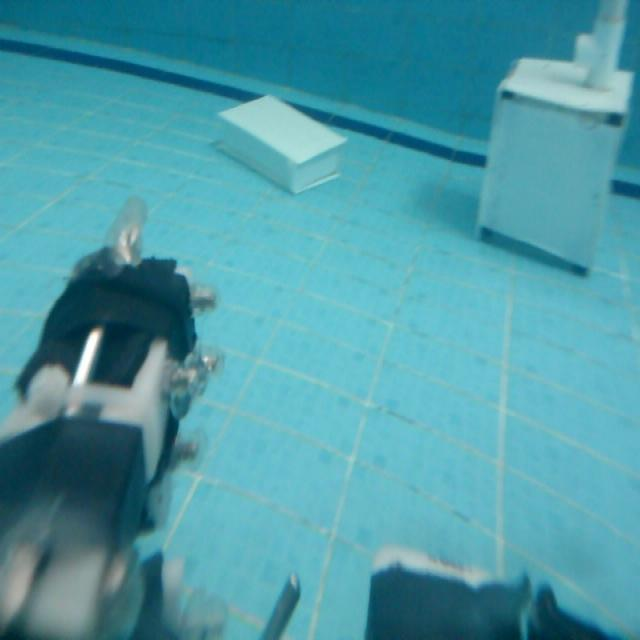Cube: (476, 54, 637, 287)
Cuboid: (215, 89, 348, 195)
